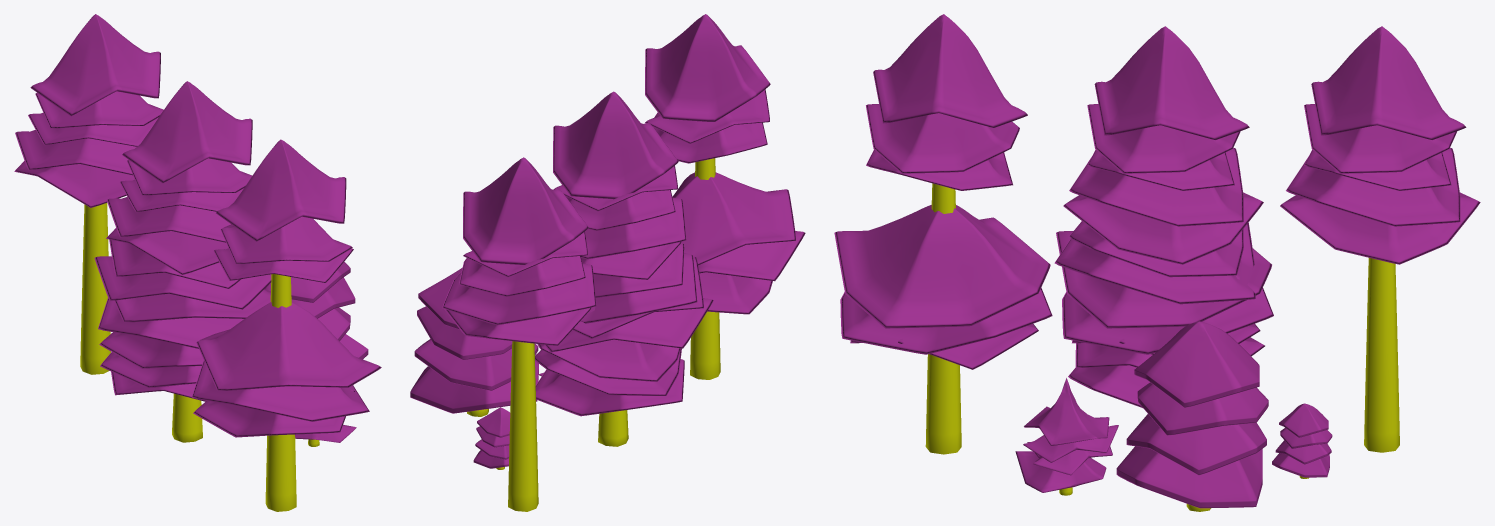
File: Trees.fbx
The picture shows the model from 3 angles, left to right: view 1: azimuth 30°, elevation 25°; view 2: azimuth 150°, elevation 25°; view 3: azimuth 270°, elevation 25°; orthographic projection. The views are drawn at different scales.
Visible parts, largest first — view 1: BigFULL, Big2, Big1, Medium, Pointy; view 2: BigFULL, Big2, Big1, Medium, Tiny; view 3: BigFULL, Big2, Big1, Medium, Pointy, Tiny.
Boxes of the visible parts, x1,y1,x2,y2 form: BigFULL: (94, 81, 271, 442); Big2: (191, 139, 381, 511); Big1: (14, 14, 163, 374); Medium: (265, 261, 368, 359); Pointy: (295, 425, 356, 446); BigFULL: (535, 91, 713, 446); Big2: (645, 14, 805, 379); Big1: (442, 157, 596, 511); Medium: (410, 267, 538, 416); Tiny: (473, 407, 510, 469); BigFULL: (1054, 26, 1273, 407); Big2: (834, 14, 1052, 454); Big1: (1280, 26, 1480, 452); Medium: (1116, 321, 1268, 511); Pointy: (1015, 378, 1118, 495); Tiny: (1272, 403, 1332, 478).
Bounding box in the file's own units: 1683 × 2281 × 3074.
